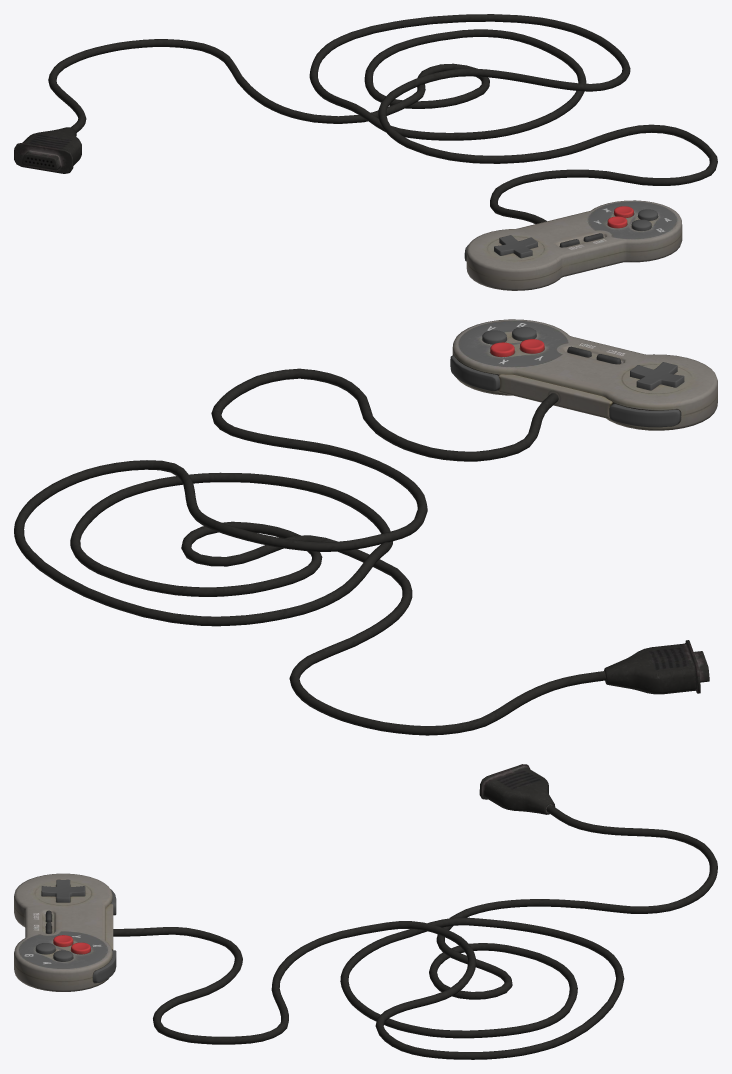
The model's file is gamepad.glb.
The picture shows the model from 3 angles, top to bottom: view 1: azimuth 30°, elevation 25°; view 2: azimuth 150°, elevation 25°; view 3: azimuth 270°, elevation 25°; orthographic projection. The views are drawn at different scales.
Visible parts, largest first — view 1: gamepad; view 2: gamepad; view 3: gamepad.
Part boxes in pixels (left/top/right/bottom): gamepad: left=14, top=14, right=717, bottom=290; gamepad: left=14, top=319, right=717, bottom=735; gamepad: left=14, top=764, right=717, bottom=1059.
Size of the model in its own units: 0.4041 by 0.0189 by 0.435.
Materials: 1 (1 with a texture image).
